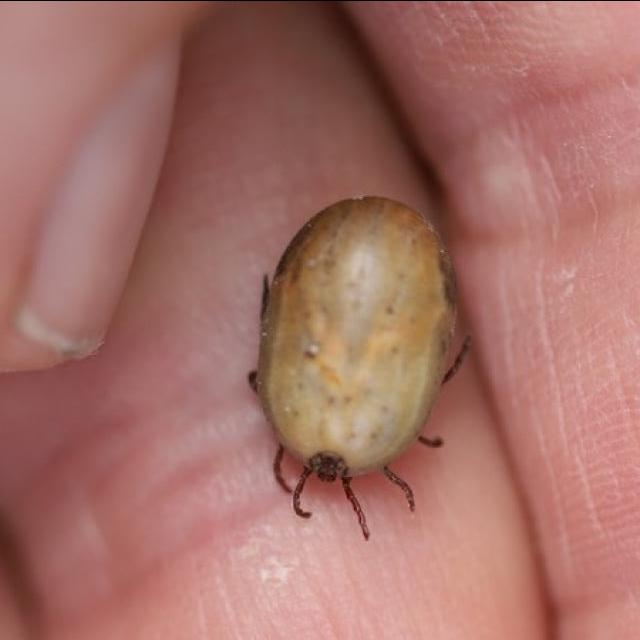Dermacentor Reticulatus-F-Fed: (247, 196, 472, 540)
